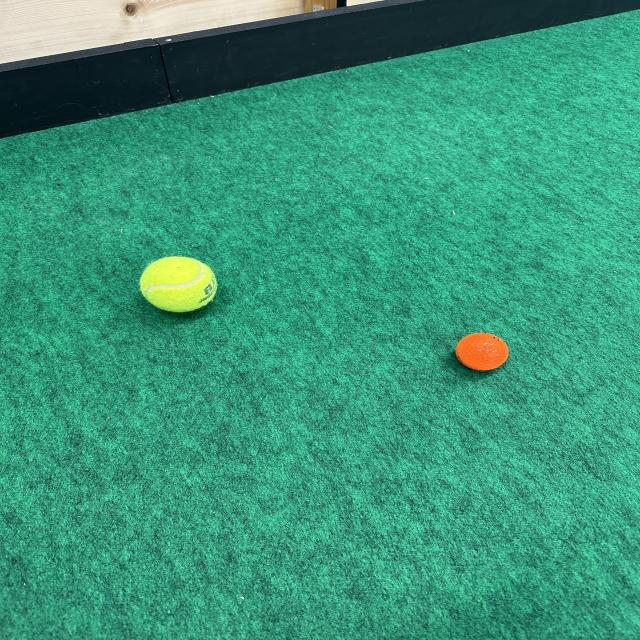ball: (451, 329, 515, 374)
